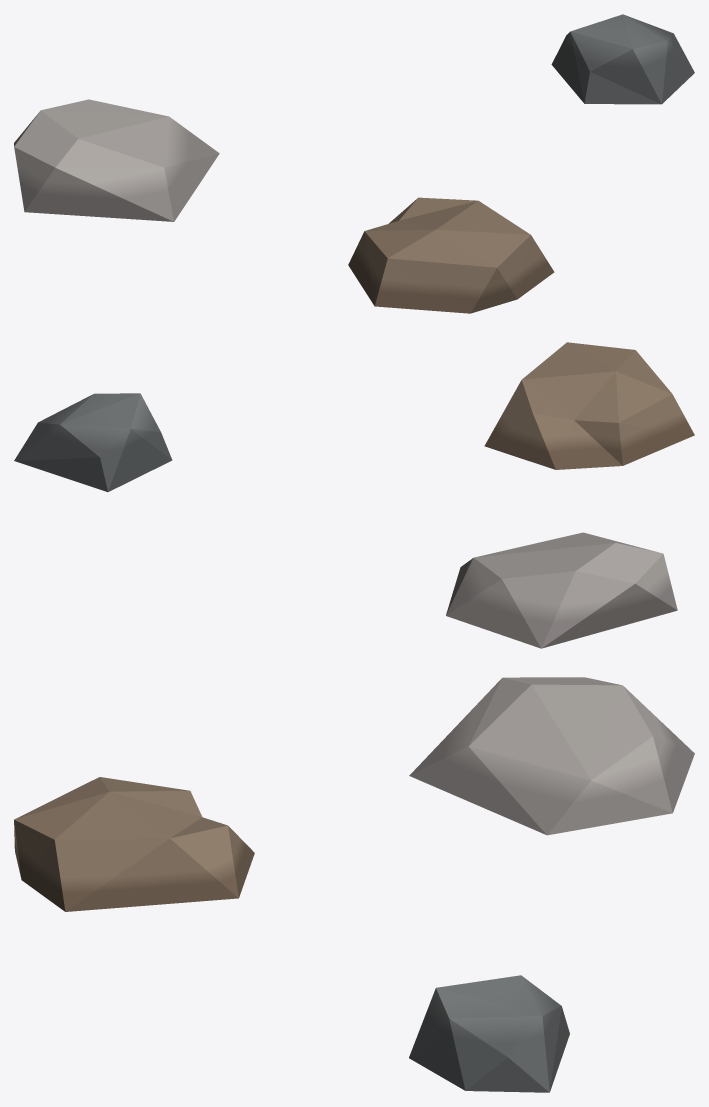
The model's file is um_pebble004.FBX.
3 renders of one model, top to bottom at view 1: azimuth 30°, elevation 25°; view 2: azimuth 150°, elevation 25°; view 3: azimuth 270°, elevation 25°, orthographic. The views are drawn at different scales.
Parts seen in each view (by area): view 1: um_pebble004; view 2: um_pebble004; view 3: um_pebble004.
Part boxes in pixels (bbox=[...]): um_pebble004: bbox=[14, 14, 694, 313]; um_pebble004: bbox=[14, 342, 694, 648]; um_pebble004: bbox=[14, 677, 694, 1092].
Size of the model in its own units: 1.26 by 0.1062 by 0.9721.
